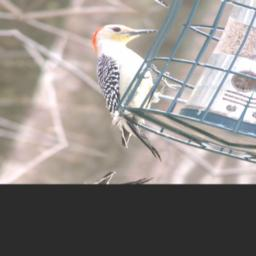Woodpecker: (45, 12, 217, 163)
